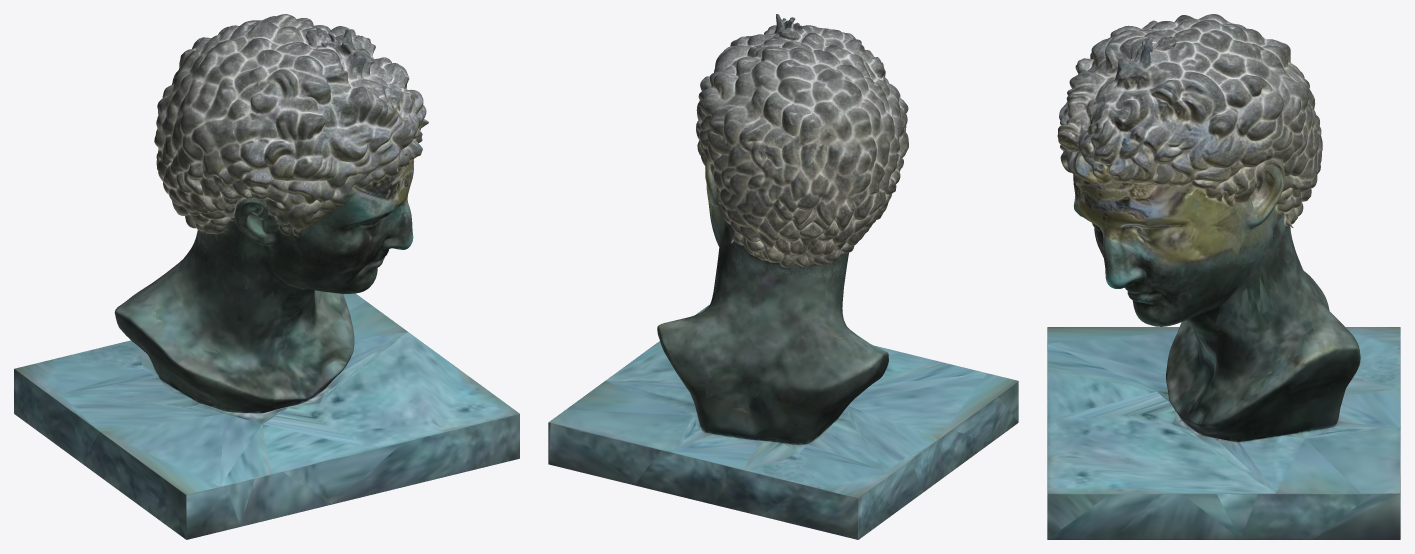
The model's file is arsham-bust.glb.
The picture shows the model from 3 angles, left to right: view 1: azimuth 30°, elevation 25°; view 2: azimuth 150°, elevation 25°; view 3: azimuth 270°, elevation 25°; orthographic projection. The views are drawn at different scales.
Visible parts, largest first — view 1: Mesh_0; view 2: Mesh_0; view 3: Mesh_0.
Part boxes in pixels (x1,y1,x2,y2): Mesh_0: (14,14,519,539); Mesh_0: (548,14,1018,539); Mesh_0: (1047,14,1400,539).
Bounding box in the file's own units: 2.4 × 2.91 × 2.15.
1 material, 1 textured.
